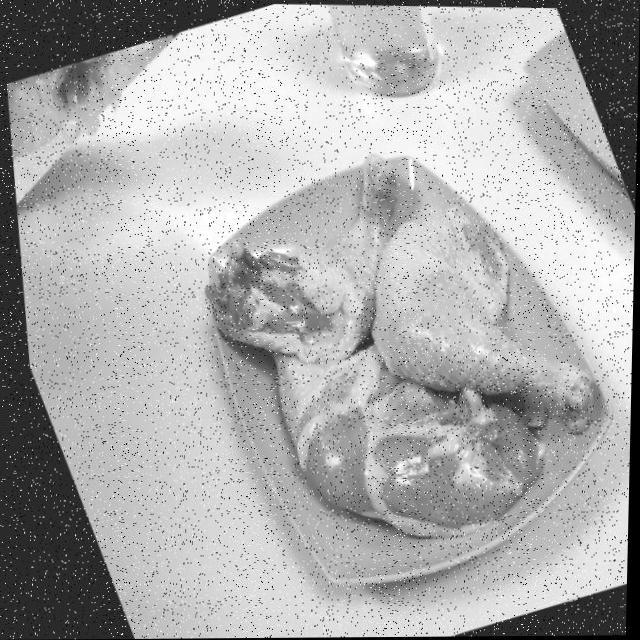quater: (274, 347, 539, 528), (383, 215, 602, 424), (185, 156, 392, 350)
